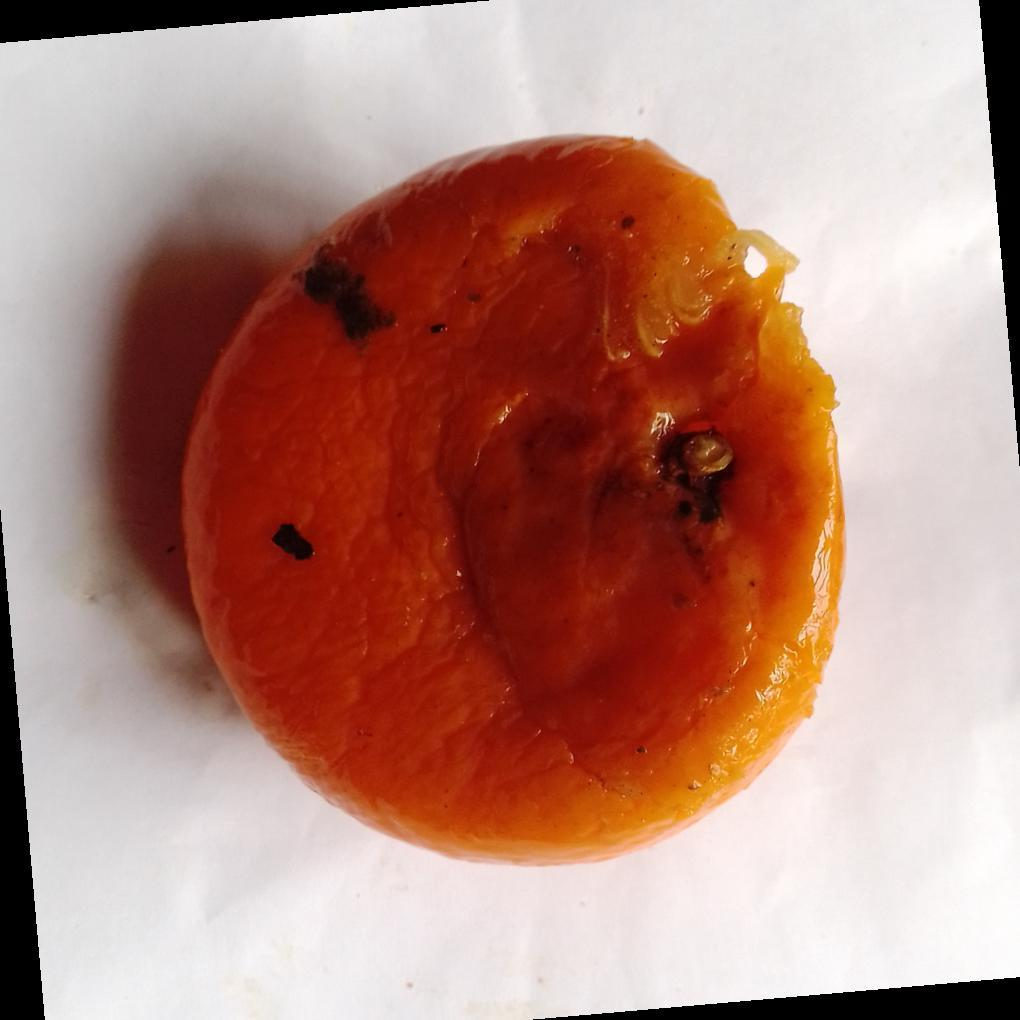FreshOrange: (177, 134, 848, 872)
